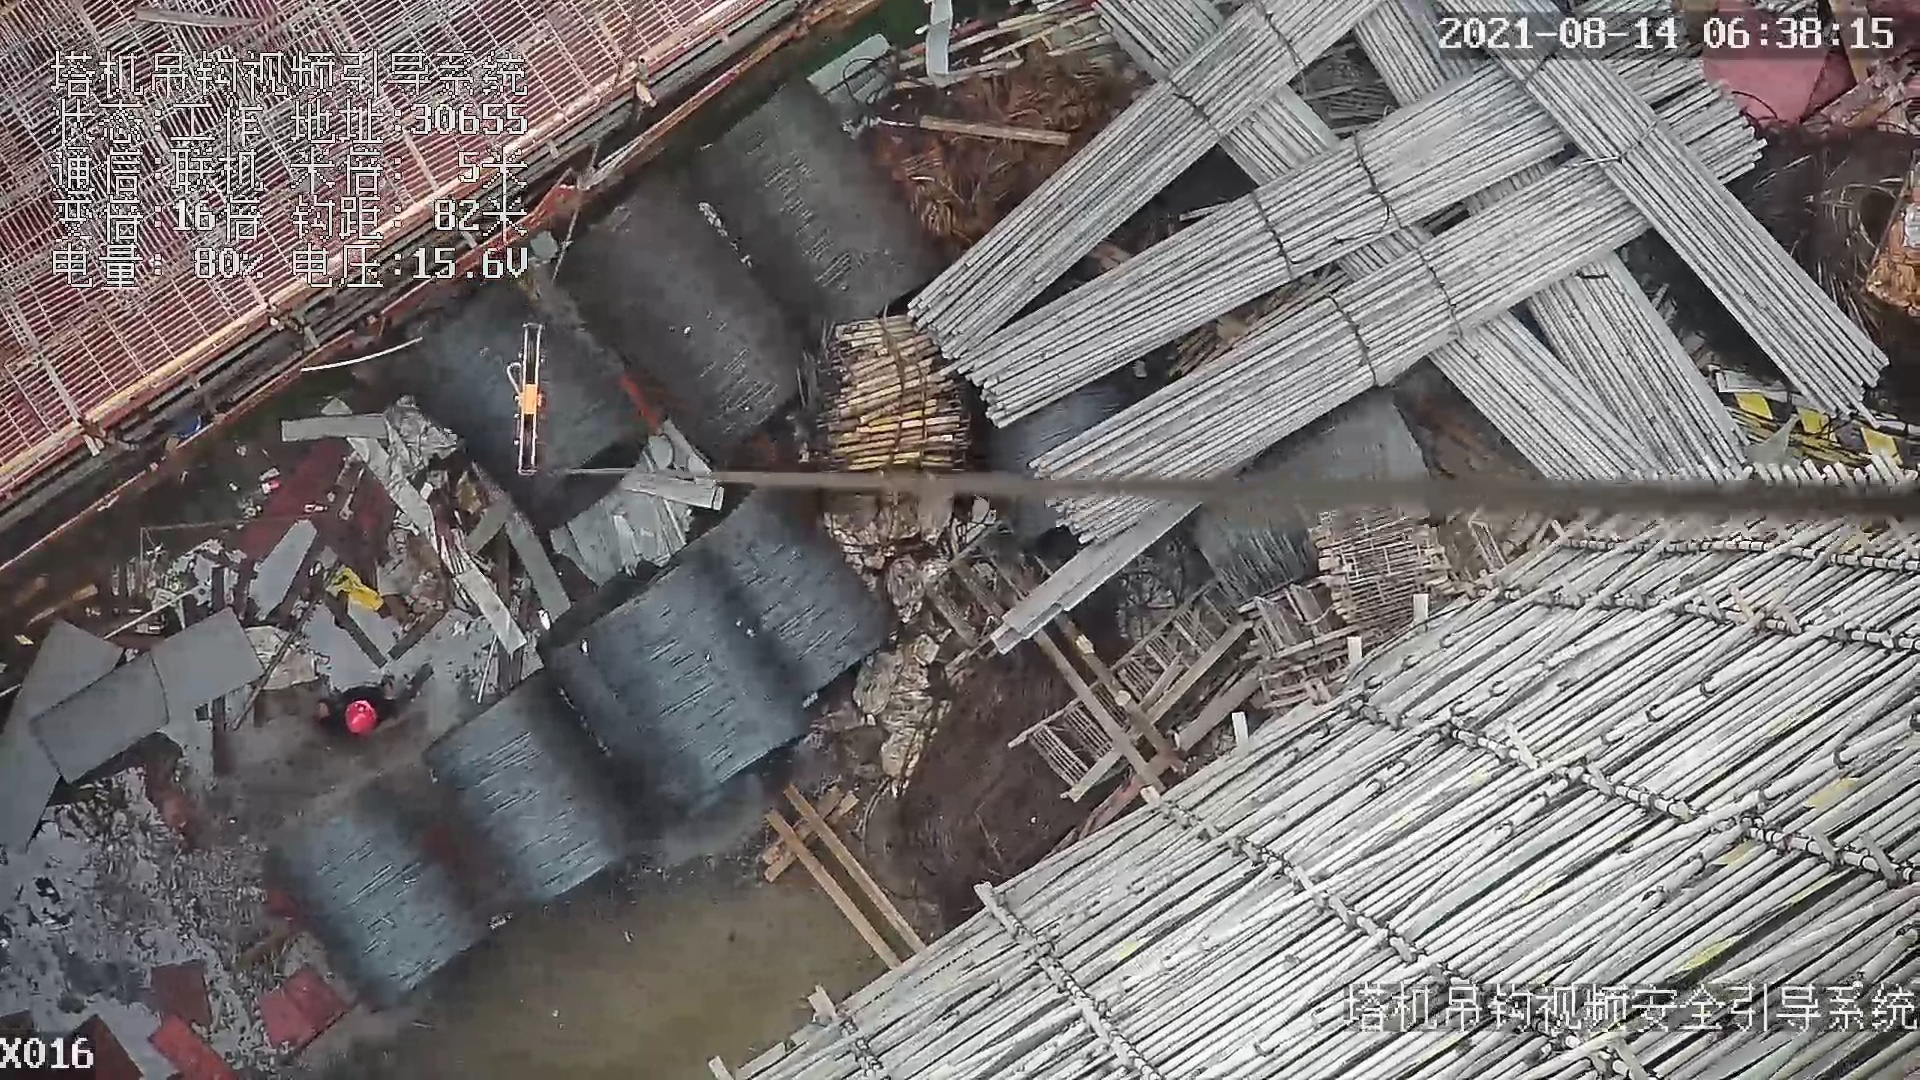helmet: (342, 701, 387, 744)
hook: (503, 319, 549, 478)
person: (312, 672, 428, 736)
scaffold: (982, 27, 1842, 476), (803, 289, 995, 476)
